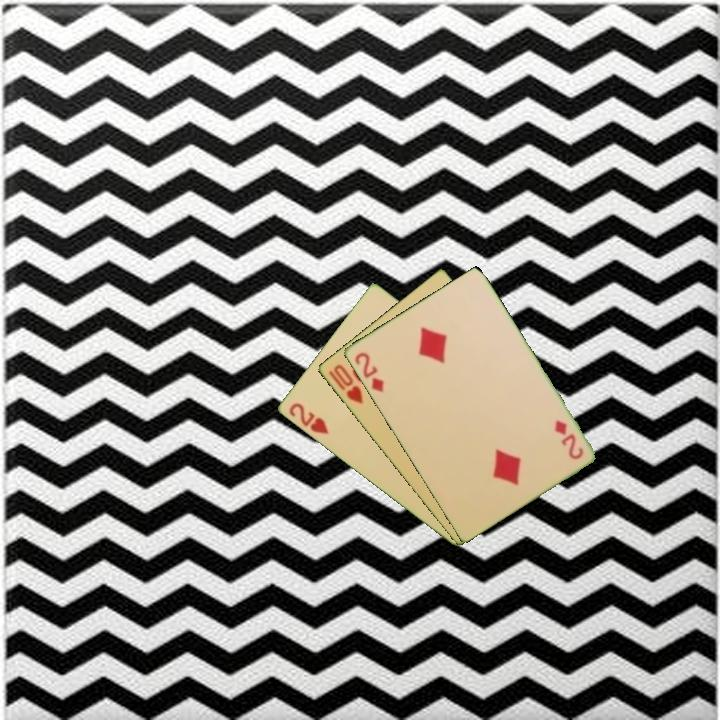10h: (324, 361, 365, 407)
2d: (351, 348, 387, 395), (550, 416, 586, 463)
2h: (285, 399, 331, 437)
